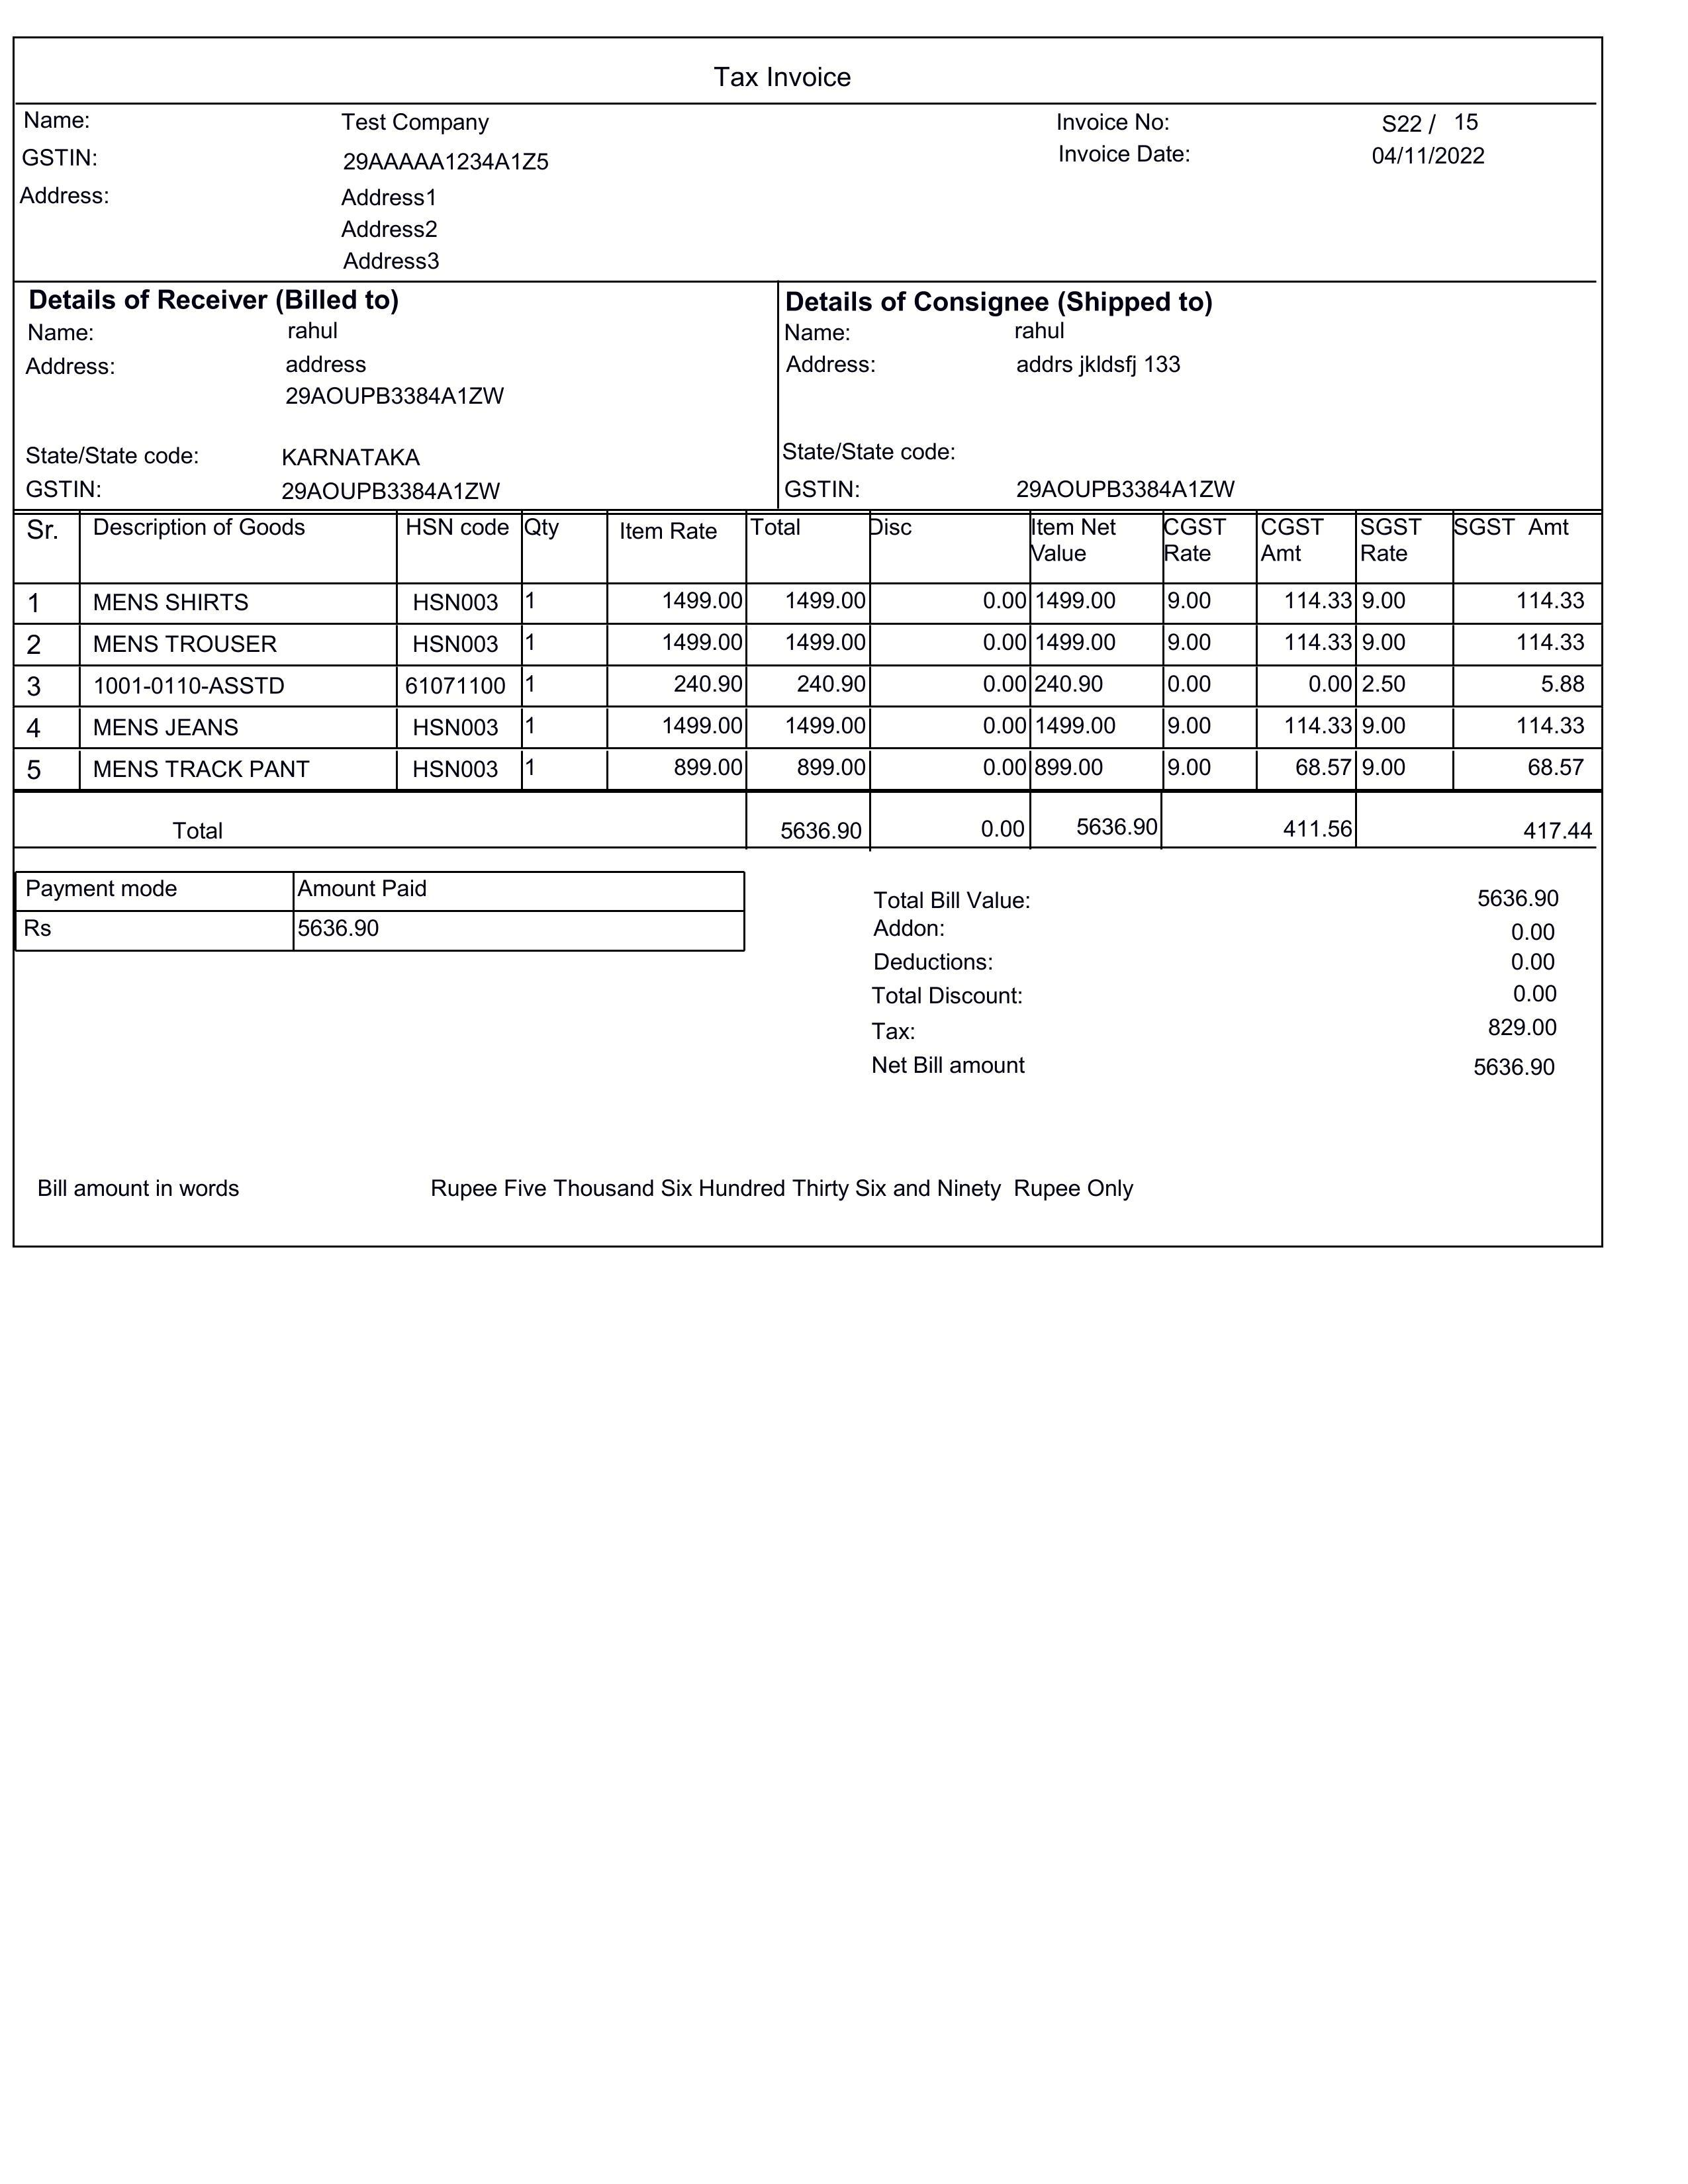InvoiceDate: (1364, 140, 1495, 172)
InvoiceNumber: (1378, 108, 1489, 135)
TotalAmount: (1470, 1051, 1569, 1085)
